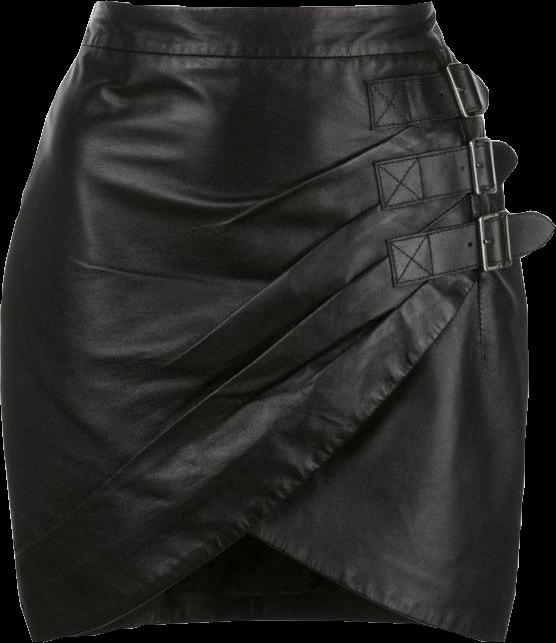Hemline: (35, 238, 517, 642), (248, 530, 505, 642)
Waistline: (77, 41, 448, 59), (92, 0, 434, 14)
